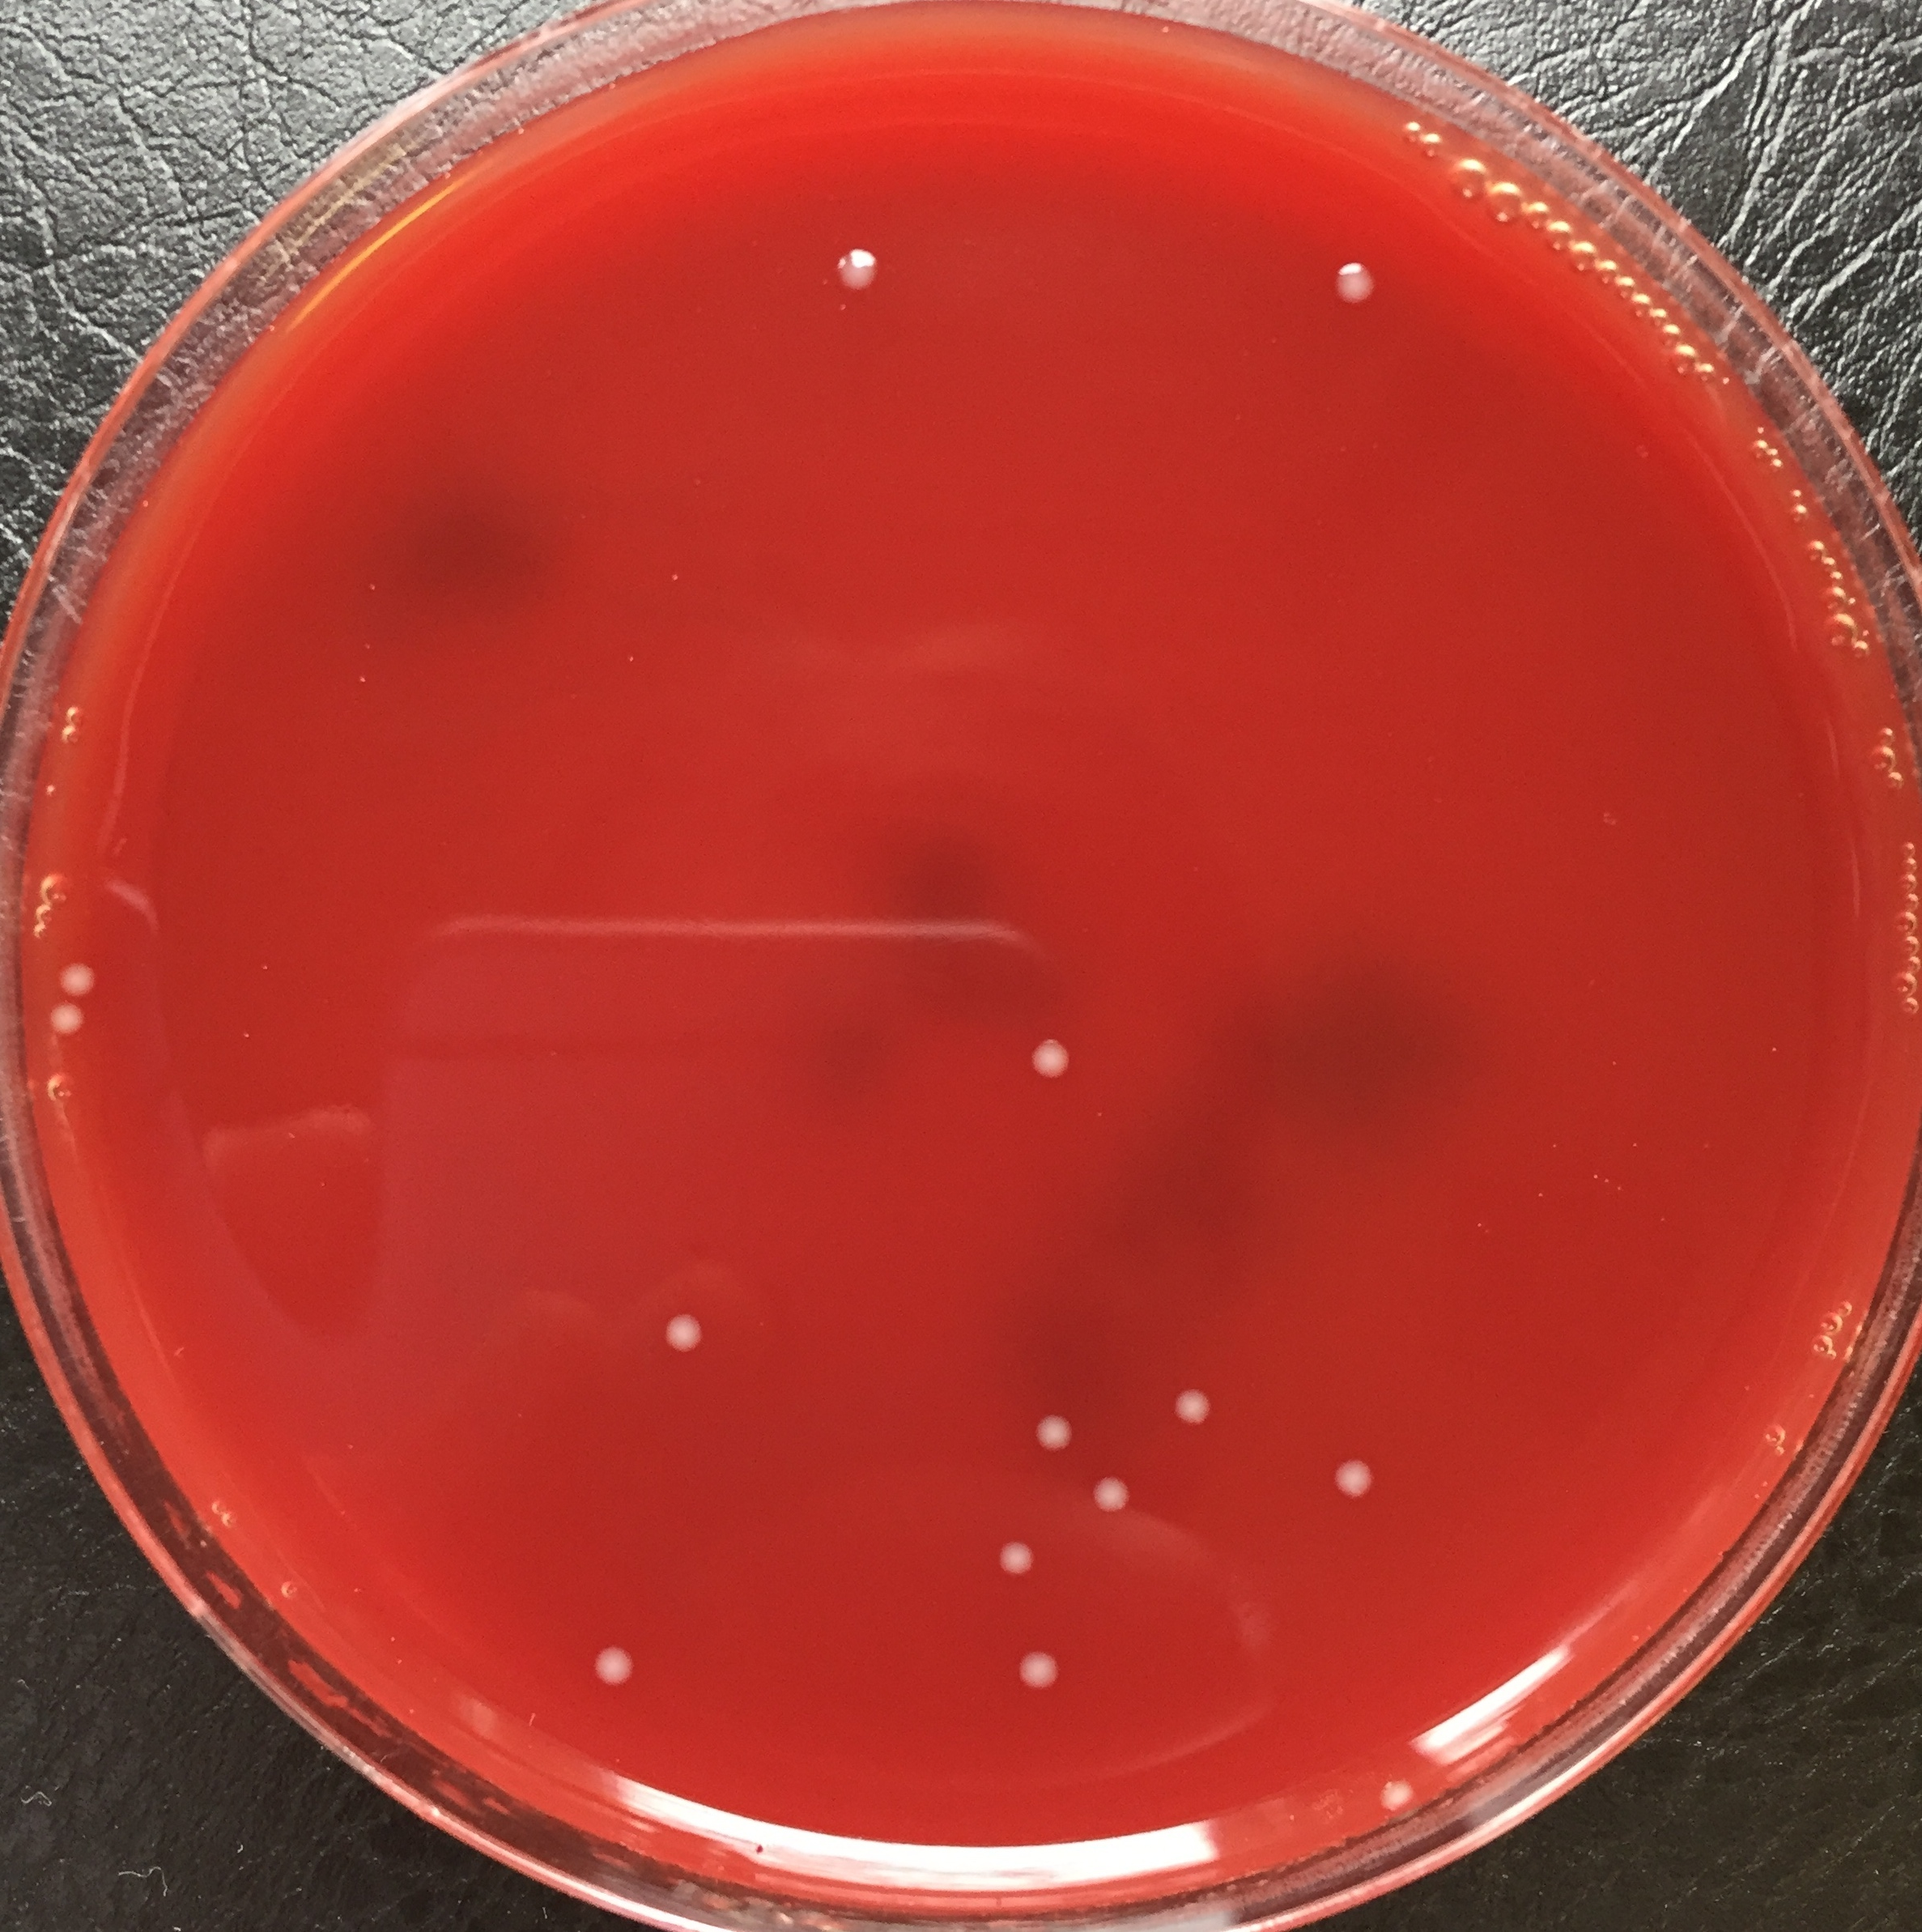sp14: (817, 229, 896, 322), (1317, 248, 1380, 315), (1021, 1019, 1075, 1096), (1084, 1457, 1144, 1522), (653, 1299, 708, 1362), (1327, 1448, 1385, 1506), (584, 1635, 644, 1691), (1165, 1379, 1218, 1438), (1026, 1408, 1079, 1462), (1012, 1645, 1065, 1700), (40, 999, 92, 1049), (991, 1536, 1037, 1585), (55, 948, 99, 999), (1375, 1765, 1410, 1819)
